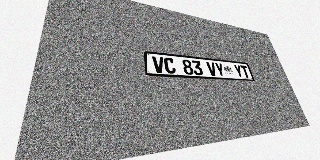plate: (143, 51, 255, 81)
